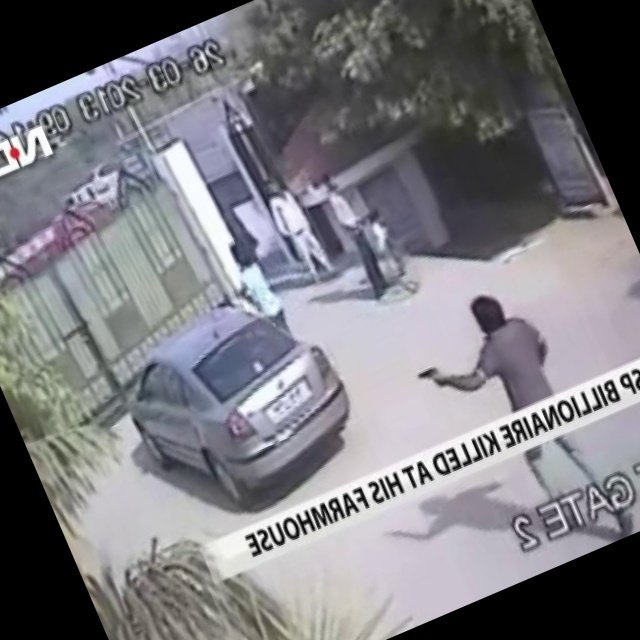gun: (409, 353, 450, 398)
